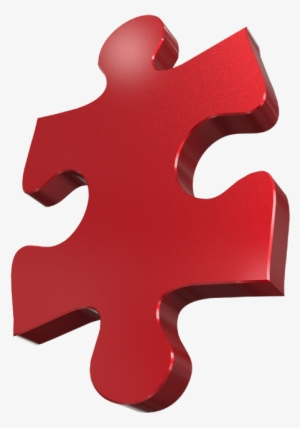puzzle piece: (8, 9, 300, 420)
